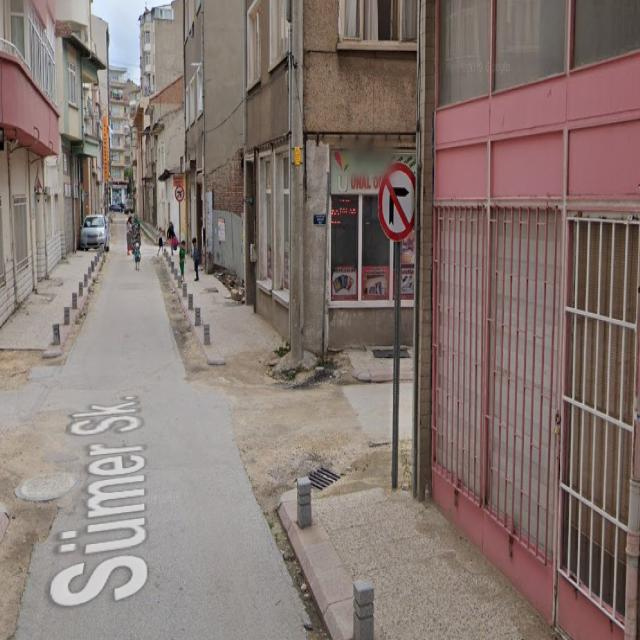sagadonulmez: (378, 164, 418, 245)
soladonulmez: (176, 186, 184, 203)
